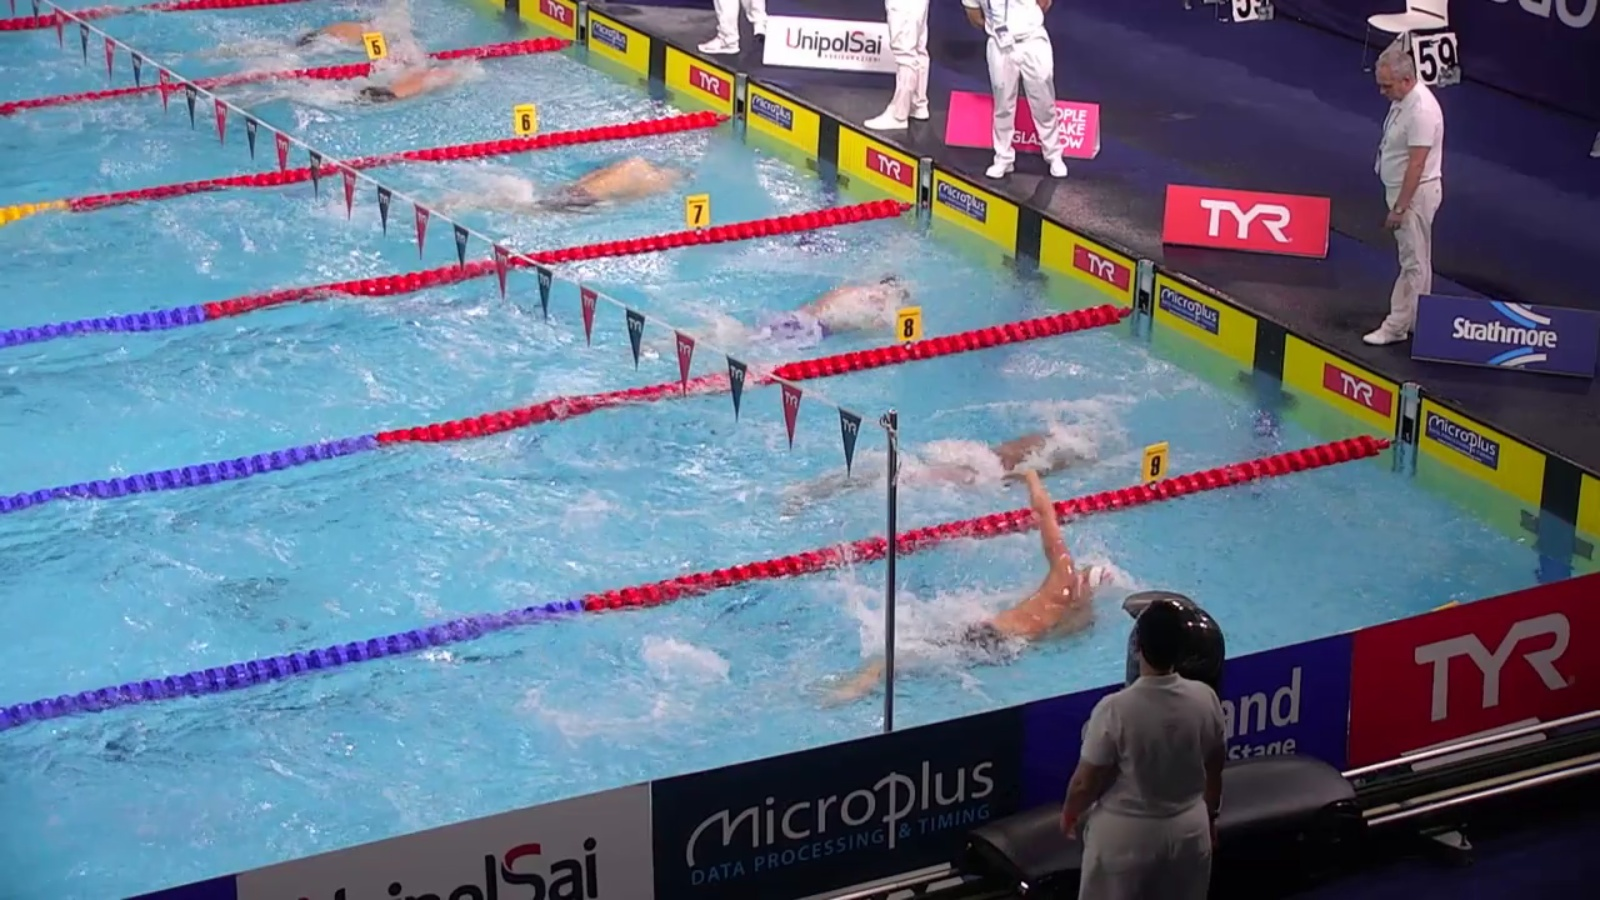swimmerw: (805, 473, 1113, 727), (774, 416, 1095, 516), (654, 273, 923, 356), (474, 155, 681, 221), (255, 12, 407, 69), (309, 65, 465, 120)
